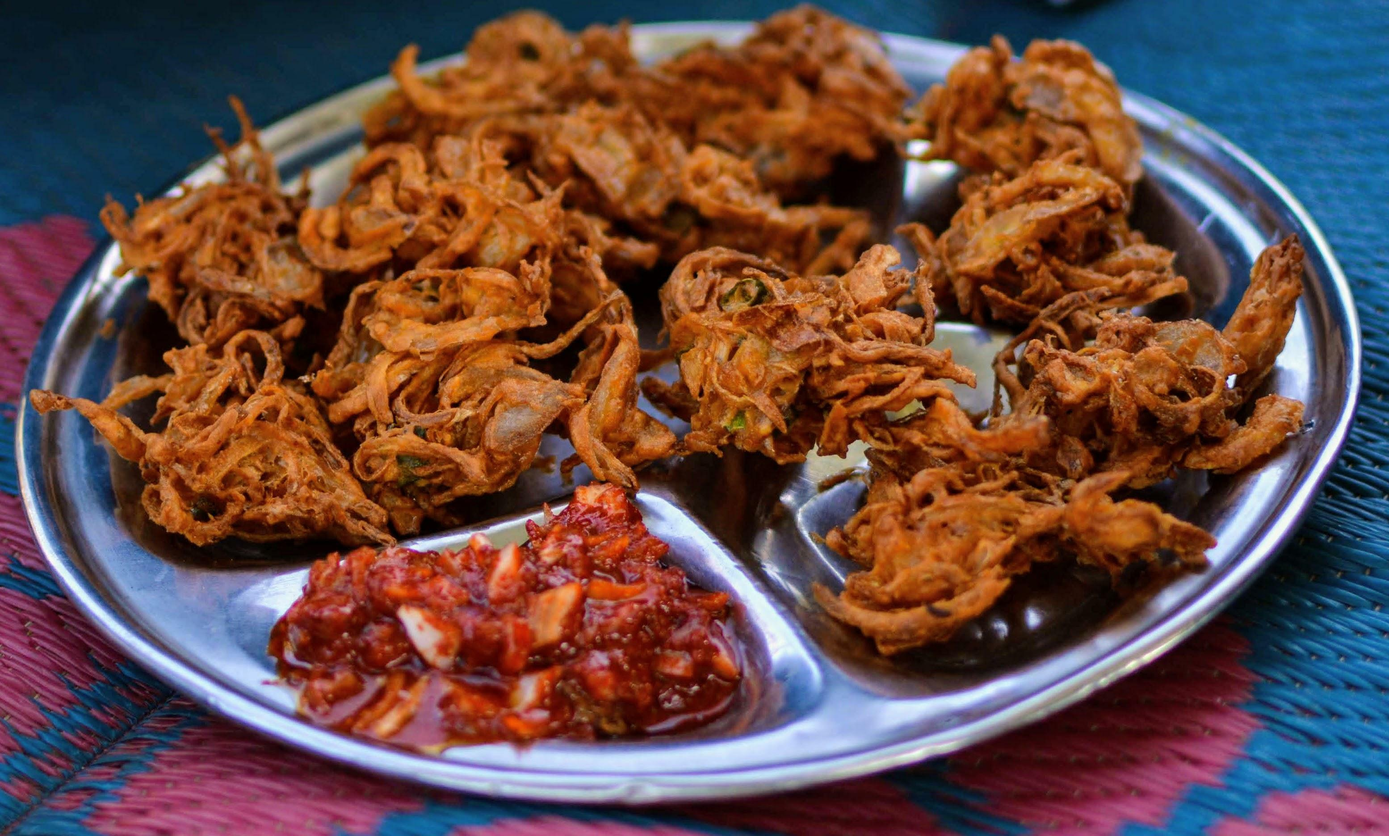OnionPakoda: (32, 0, 1311, 655)
